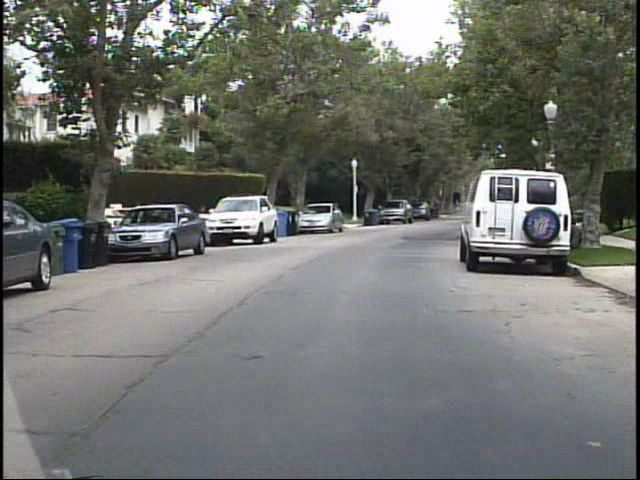person: (565, 218, 587, 254)
